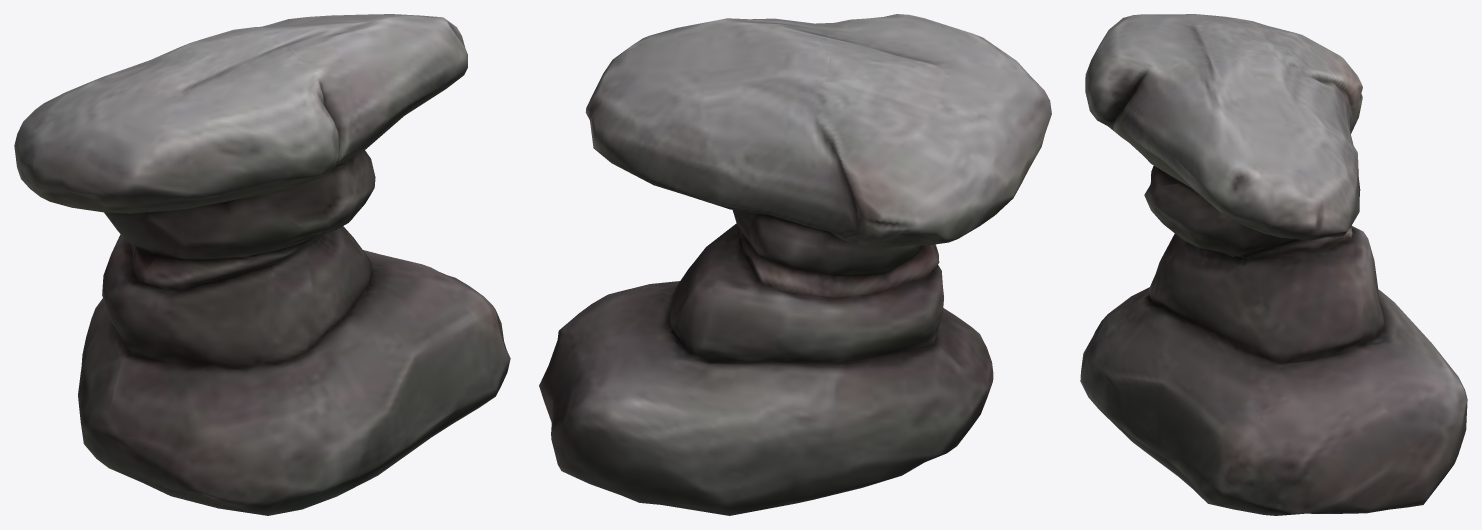
File: sp-fels-5.glb
3 views of the same model, side by side, from view 1: azimuth 30°, elevation 25°; view 2: azimuth 150°, elevation 25°; view 3: azimuth 270°, elevation 25° (orthographic). The views are drawn at different scales.
Visible parts, largest first — view 1: sp-fels-5; view 2: sp-fels-5; view 3: sp-fels-5.
Boxes of the visible parts, box(x1,y1,x2,y2) form: sp-fels-5: box(14, 14, 510, 515); sp-fels-5: box(539, 14, 1051, 515); sp-fels-5: box(1080, 14, 1467, 515).
Bounding box in the file's own units: 3.81 × 3.38 × 3.08.
Materials: 1 (1 with a texture image).
